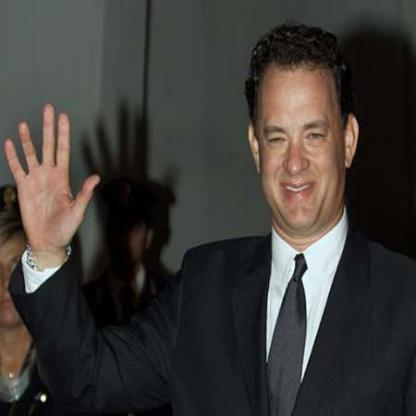face: (257, 42, 348, 235), (1, 213, 35, 328)
